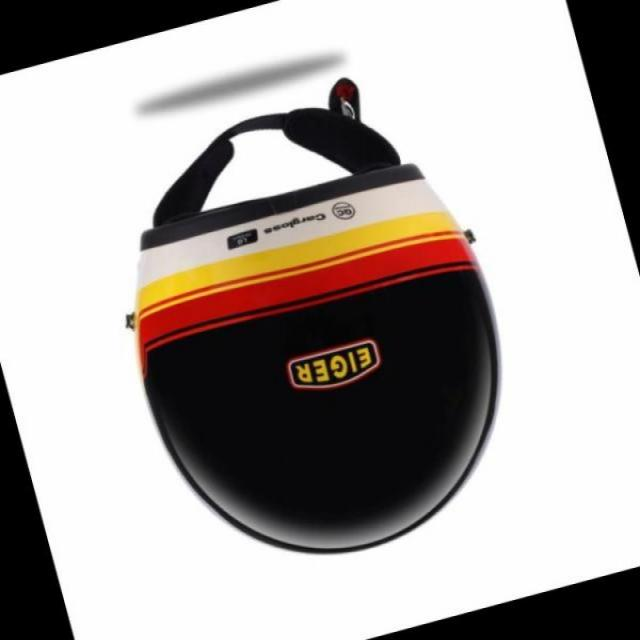Helmet: (109, 101, 503, 541)
